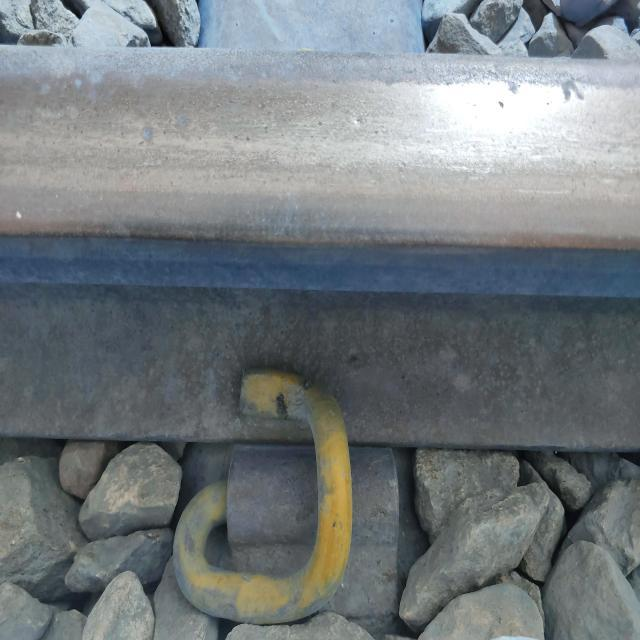head_checks_low: (496, 60, 524, 118), (552, 65, 587, 107)
